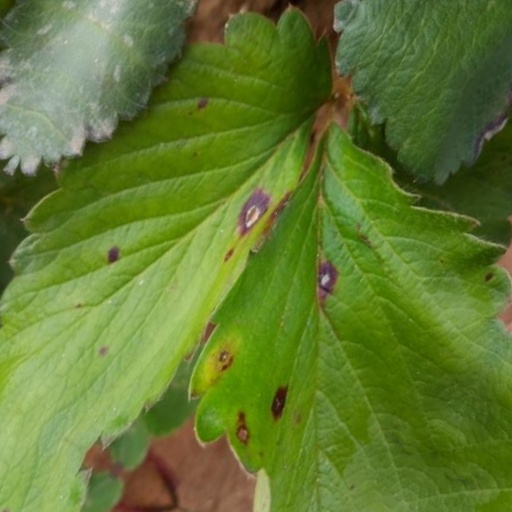Leaf Spot: (246, 100, 511, 511), (37, 22, 255, 511), (194, 0, 401, 110)
